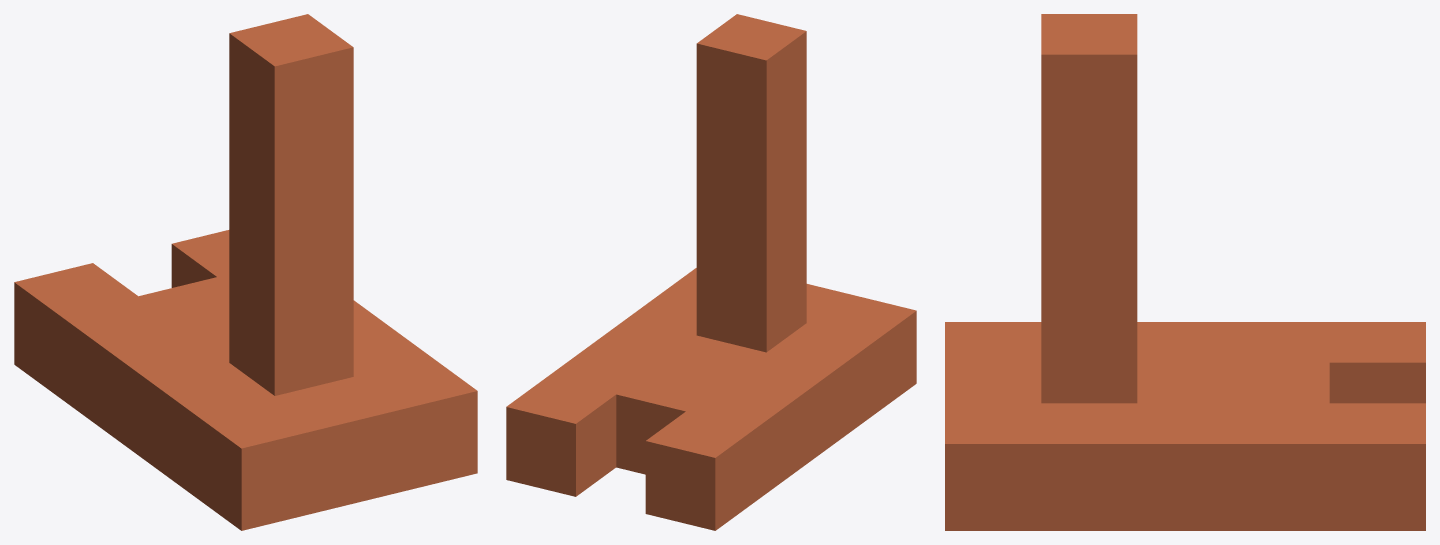
Rendered from entity14230.gltf.
3 views of the same model, side by side, from view 1: azimuth 30°, elevation 25°; view 2: azimuth 150°, elevation 25°; view 3: azimuth 270°, elevation 25° (orthographic). The views are drawn at different scales.
Visible parts, largest first — view 1: node_LegL; view 2: node_LegL; view 3: node_LegL.
Part boxes in pixels (x1,y1,x2,y2): node_LegL: (14, 14, 477, 530); node_LegL: (506, 14, 916, 530); node_LegL: (945, 14, 1425, 530).
Bounding box in the file's own units: 0.003 × 0.005 × 0.005.
1 material, 1 textured.
